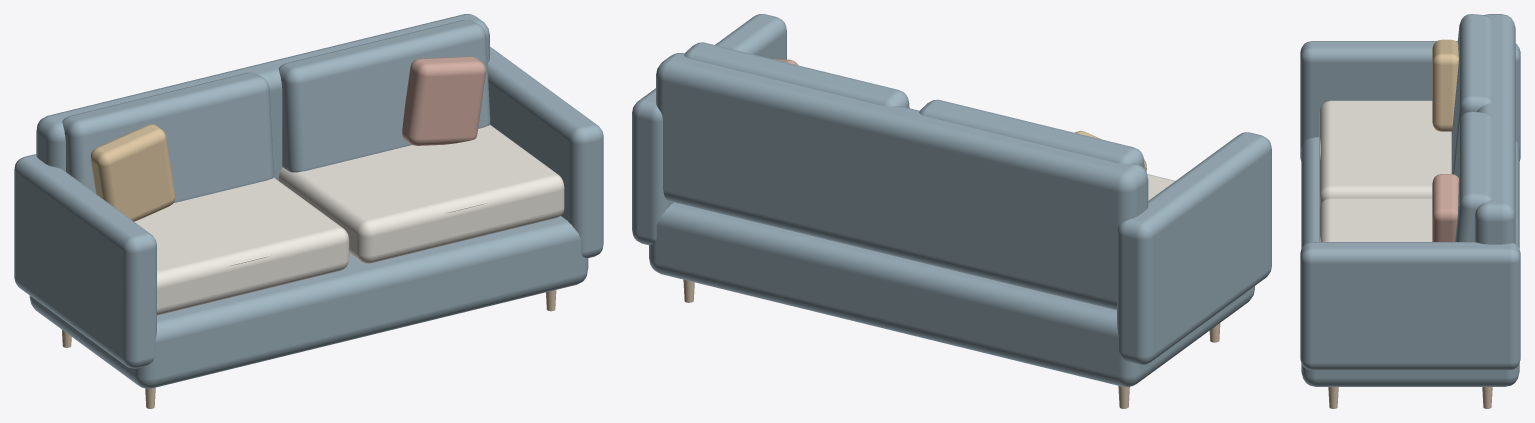
The model's file is sofa.glb.
The picture shows the model from 3 angles, left to right: view 1: azimuth 30°, elevation 25°; view 2: azimuth 150°, elevation 25°; view 3: azimuth 270°, elevation 25°; orthographic projection. The views are drawn at different scales.
Visible parts, largest first — view 1: sofa; view 2: sofa; view 3: sofa.
Part boxes in pixels (<box>): sofa: <box>14,14,603,408</box>; sofa: <box>632,14,1271,408</box>; sofa: <box>1300,14,1520,408</box>.
Bounding box in the file's own units: 2.08 × 0.96 × 0.9.
